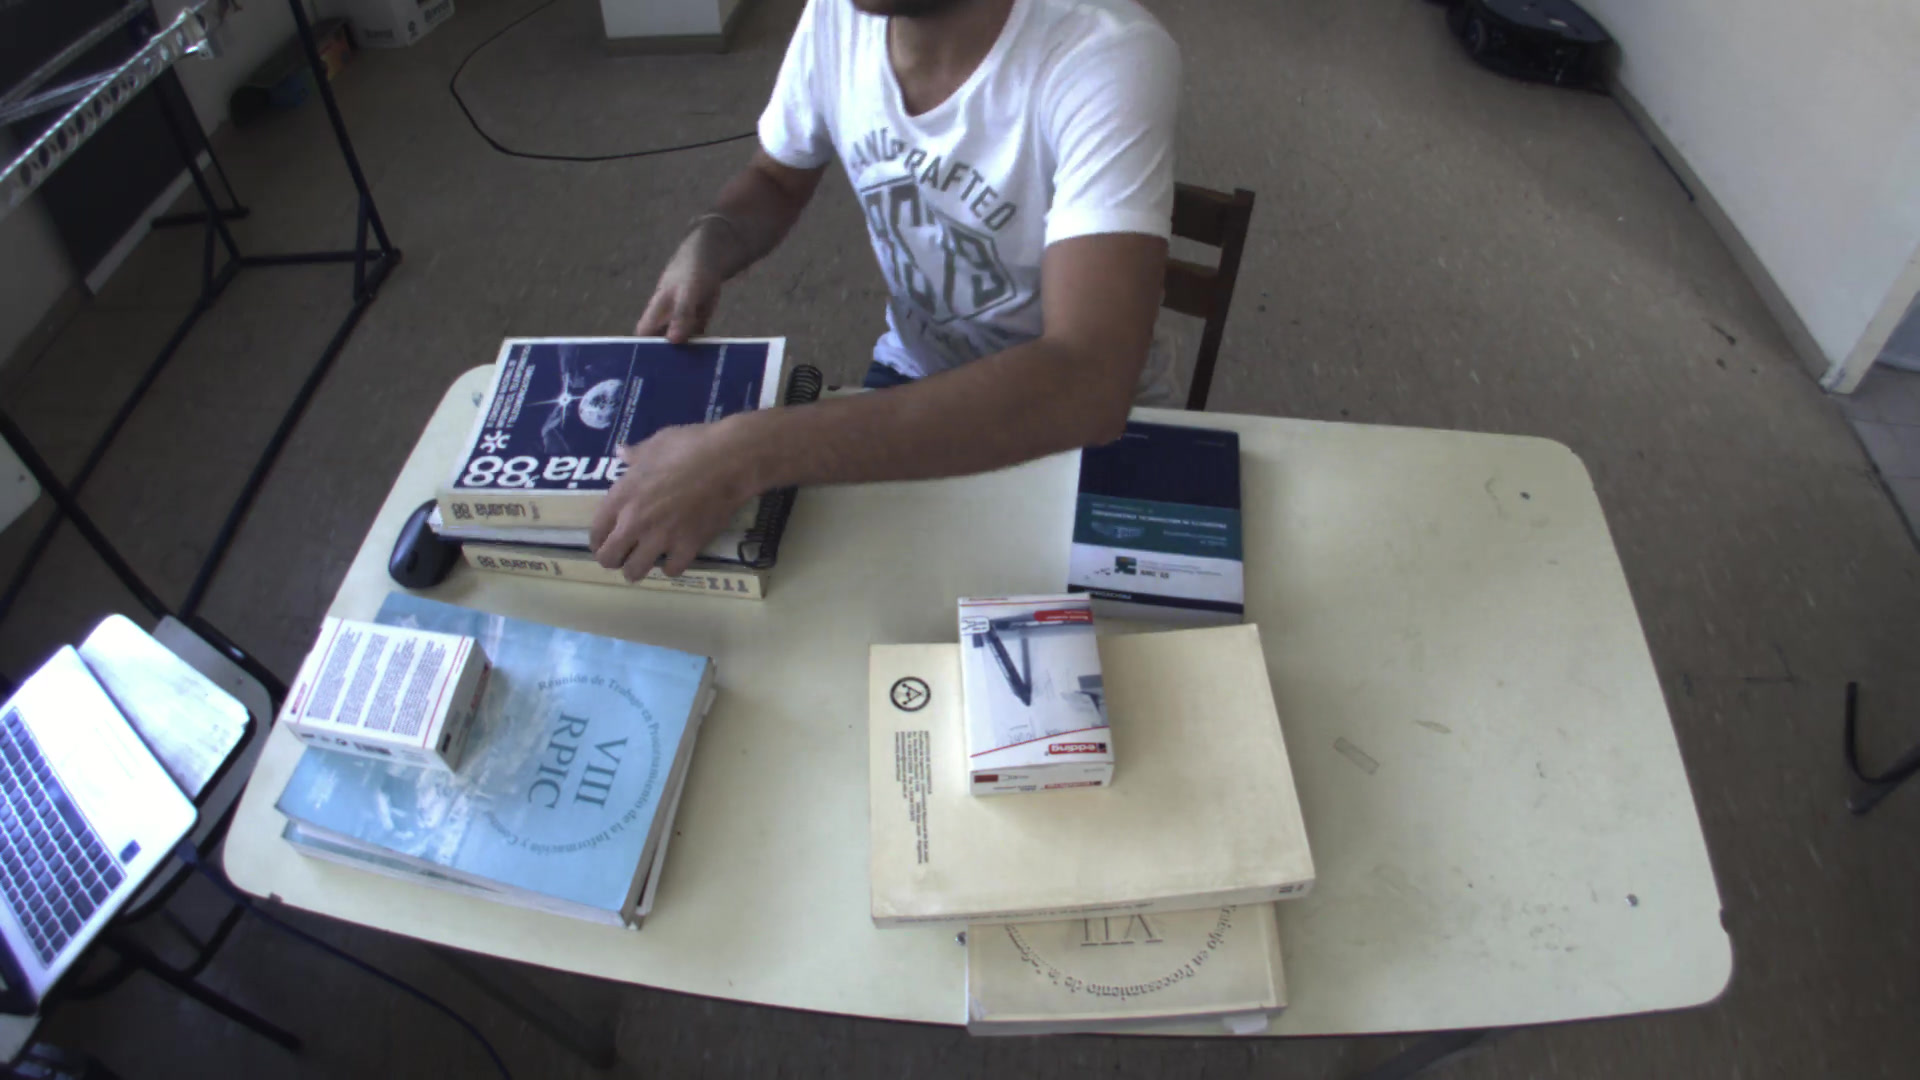hand: (578, 414, 746, 585), (618, 218, 729, 349)
